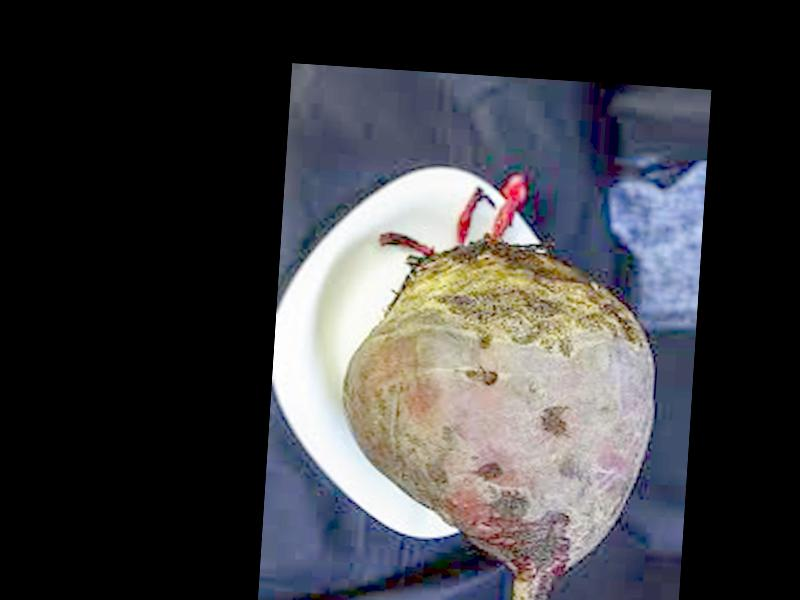Beet: (331, 165, 663, 600)
